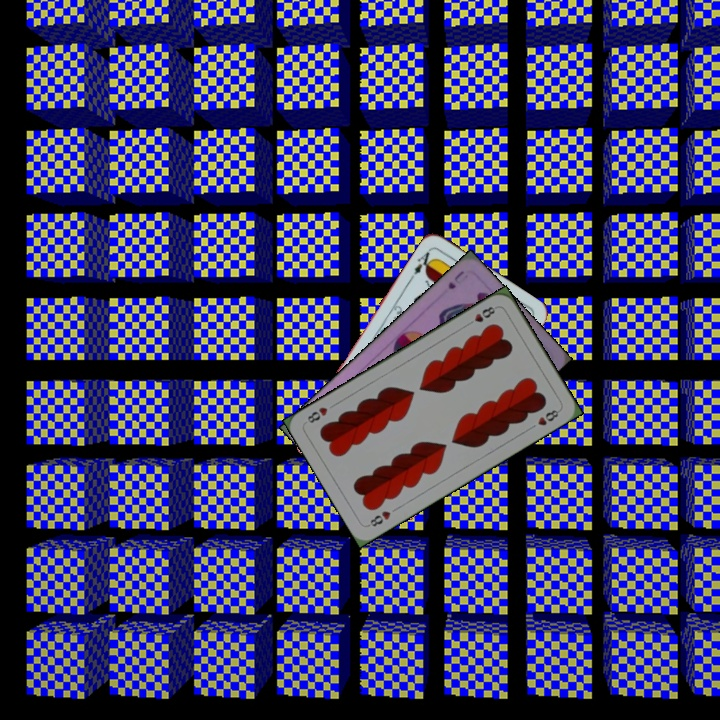EA: (407, 245, 437, 282)
H8: (463, 302, 500, 328), (364, 506, 393, 529)
SU: (444, 266, 467, 292)
